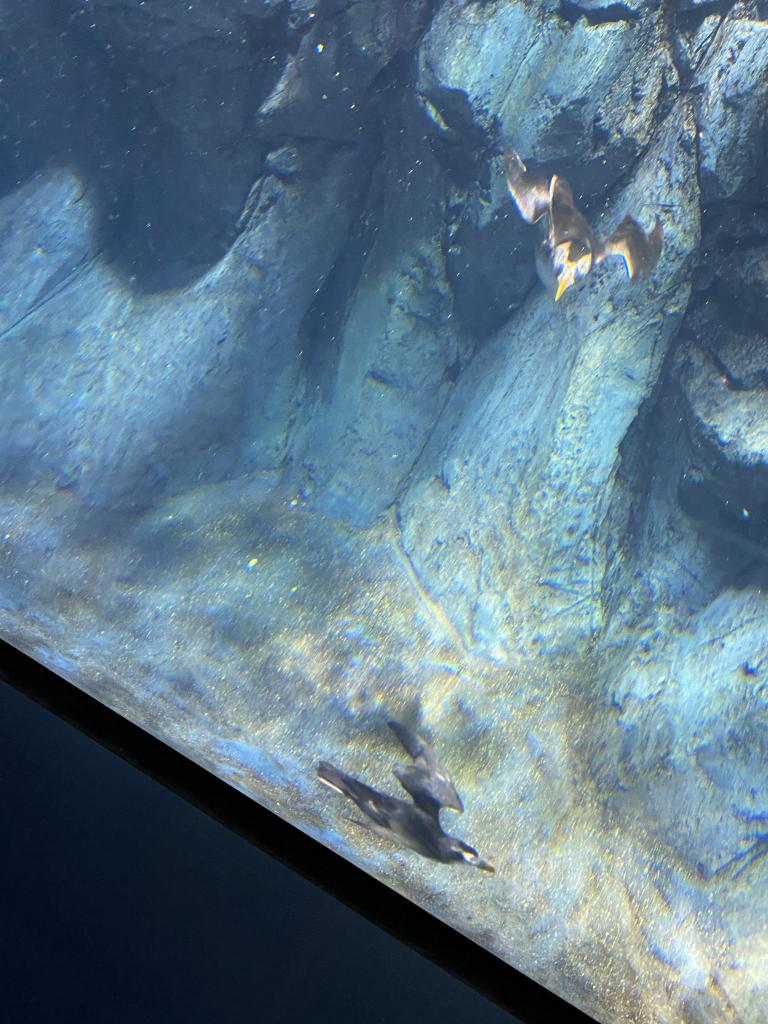puffin: (314, 715, 500, 877), (496, 141, 664, 303)
